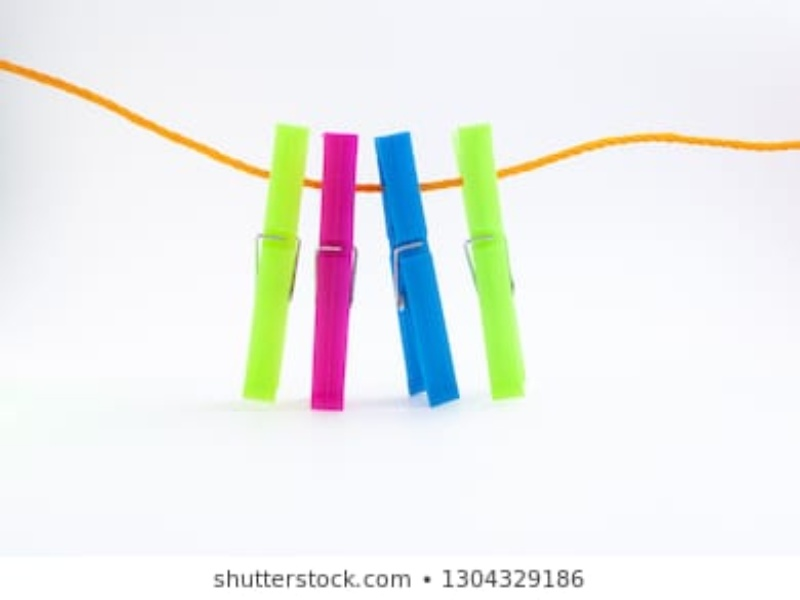plastic-peg: (371, 127, 470, 408), (450, 122, 549, 400), (236, 123, 318, 404), (309, 125, 364, 422)
